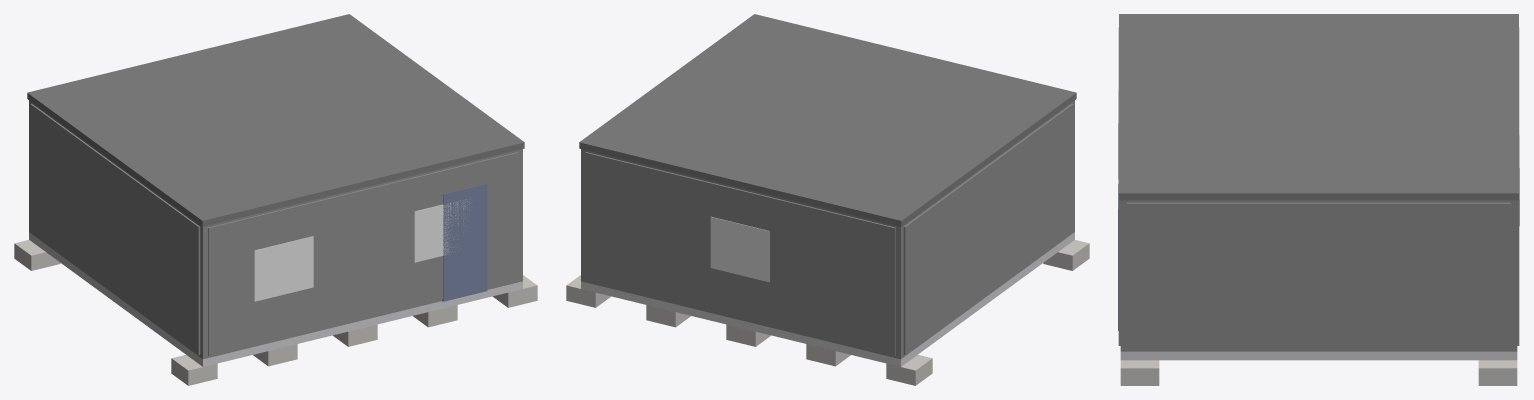
File: Studio-20-Base-AntiqueWallGrey-LOD1.glb
3 renders of one model, left to right at view 1: azimuth 30°, elevation 25°; view 2: azimuth 150°, elevation 25°; view 3: azimuth 270°, elevation 25°, orthographic. The views are drawn at different scales.
Parts seen in each view (by area): view 1: RoofMain, ExteriorPanelsStandard, WindowsStandard, EntryDoor, FoundationBlocks, BaseFrame, ExteriorShell; view 2: ExteriorPanelsStandard, RoofMain, FoundationBlocks, BaseFrame, ExteriorShell, WindowsStandard; view 3: RoofMain, ExteriorPanelsStandard, ExteriorShell, BaseFrame, FoundationBlocks.
Boxes of the visible parts, left/top/right/bottom form: RoofMain: left=27, top=14, right=524, bottom=226; ExteriorPanelsStandard: left=30, top=103, right=518, bottom=355; WindowsStandard: left=254, top=199, right=471, bottom=301; EntryDoor: left=442, top=183, right=487, bottom=301; FoundationBlocks: left=14, top=240, right=537, bottom=385; BaseFrame: left=29, top=232, right=522, bottom=366; ExteriorShell: left=29, top=100, right=522, bottom=359; ExteriorPanelsStandard: left=585, top=103, right=1073, bottom=355; RoofMain: left=579, top=14, right=1076, bottom=226; FoundationBlocks: left=566, top=240, right=1089, bottom=385; BaseFrame: left=581, top=232, right=1074, bottom=366; ExteriorShell: left=581, top=100, right=1074, bottom=359; WindowsStandard: left=710, top=216, right=769, bottom=281; RoofMain: left=1119, top=14, right=1518, bottom=200; ExteriorPanelsStandard: left=1118, top=27, right=1519, bottom=349; ExteriorShell: left=1120, top=200, right=1517, bottom=351; BaseFrame: left=1120, top=351, right=1517, bottom=360; FoundationBlocks: left=1120, top=360, right=1517, bottom=385.
Size of the model in its own units: 7.14 by 3.17 by 6.24.
